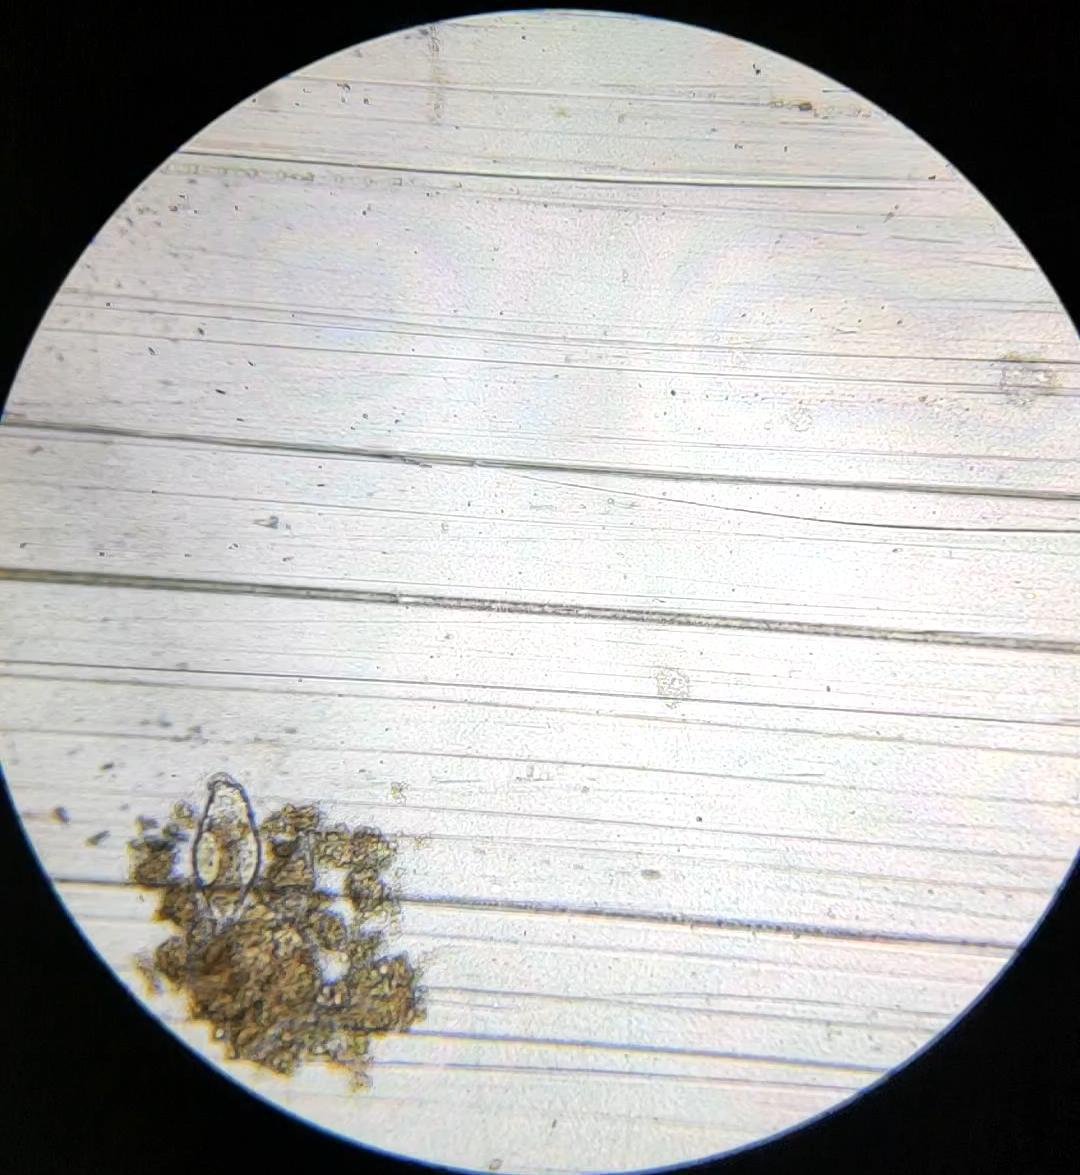Do: (195, 772, 260, 940)
